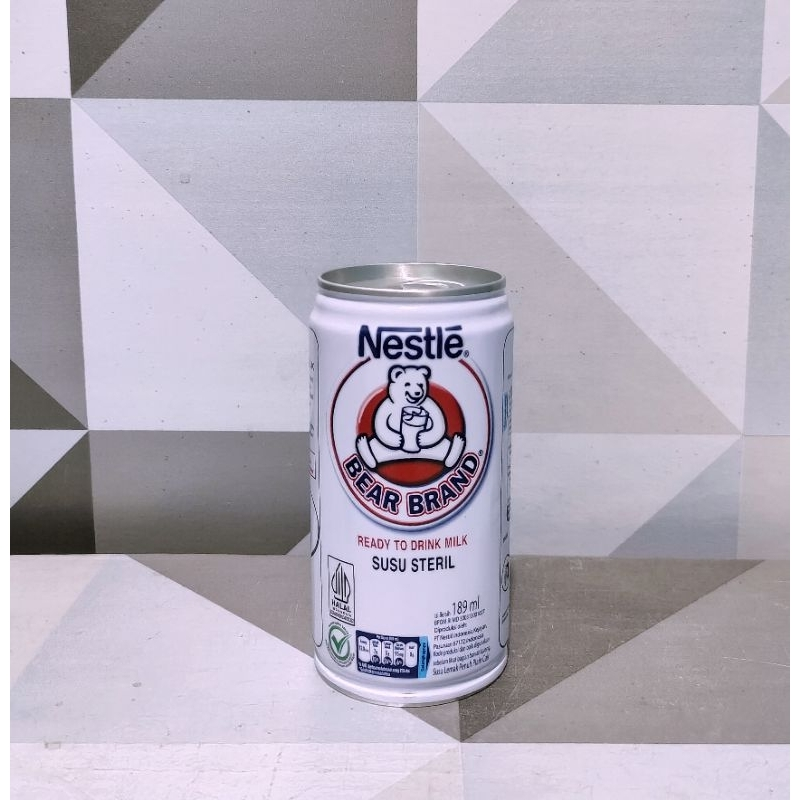Bear Brand Susu Steril (189ml): (280, 246, 522, 701)
